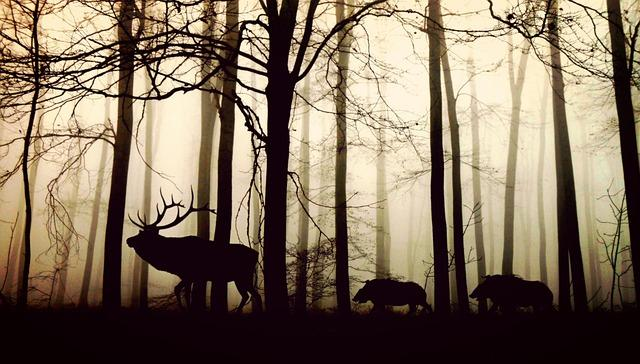Non_Gorille: (2, 3, 640, 364)
